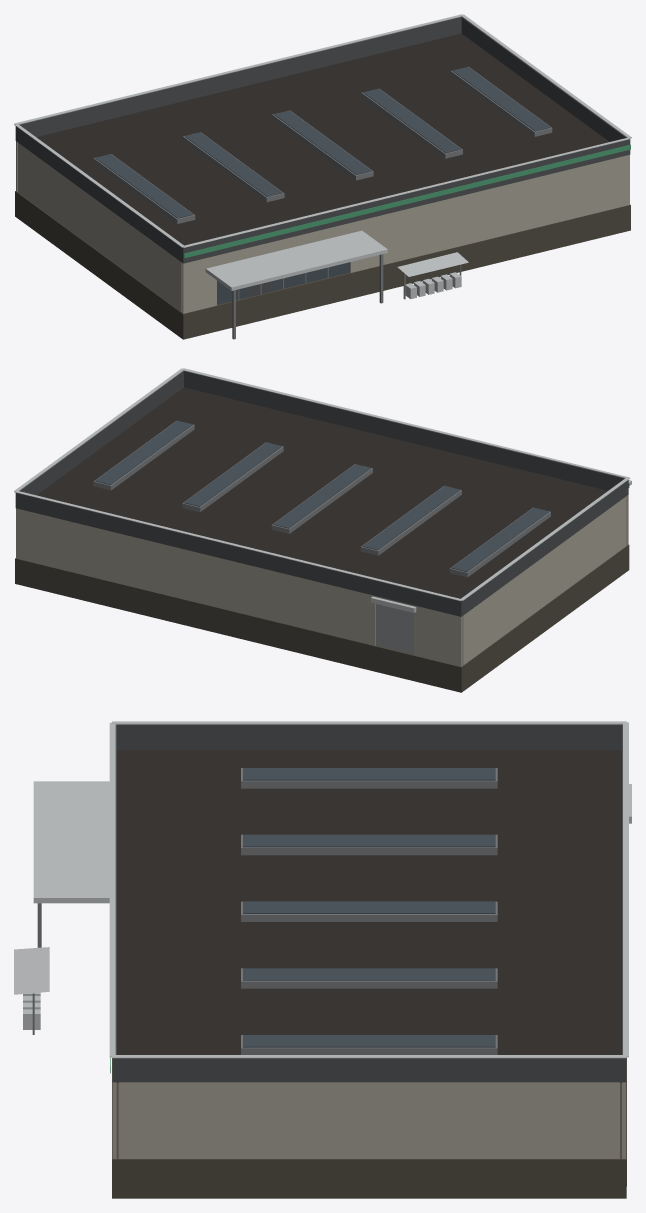
The model's file is supermarket-lod1.glb.
The picture shows the model from 3 angles, top to bottom: view 1: azimuth 30°, elevation 25°; view 2: azimuth 150°, elevation 25°; view 3: azimuth 270°, elevation 25°; orthographic projection. The views are drawn at different scales.
Parts seen in each view (by area): view 1: supermarket-plinth.001; view 2: supermarket-plinth.001; view 3: supermarket-plinth.001.
Part boxes in pixels (x1,y1,x2,y2): supermarket-plinth.001: (14, 14, 631, 339); supermarket-plinth.001: (14, 368, 631, 692); supermarket-plinth.001: (14, 721, 631, 1198).
Bounding box in the file's own units: 40.3 × 7.94 × 31.3.
